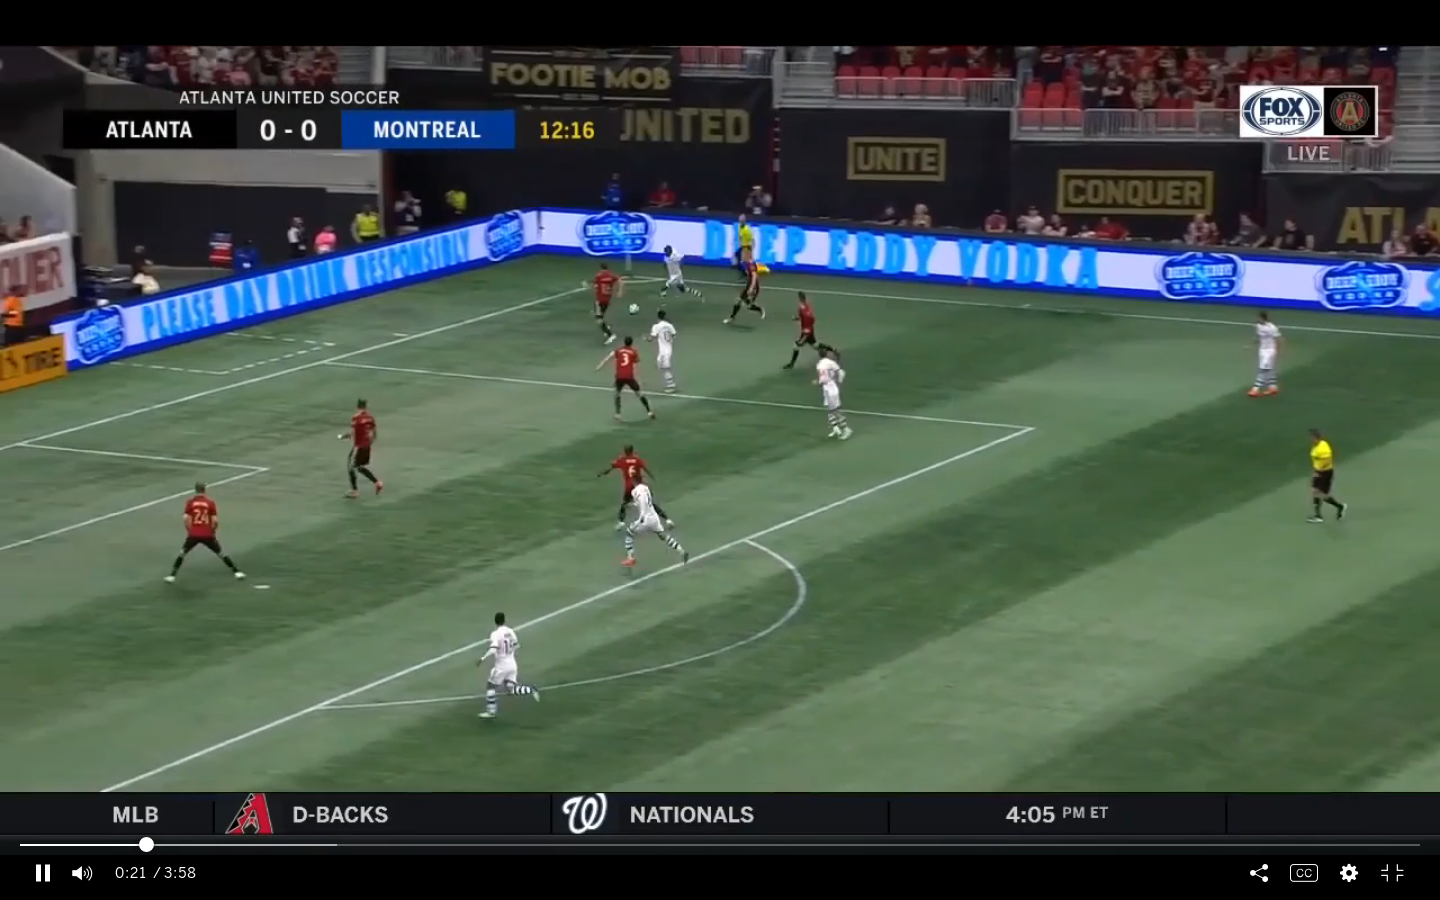referee: (1304, 426, 1347, 528), (736, 211, 768, 276)
soccer player: (165, 474, 248, 592), (475, 611, 542, 723), (595, 442, 673, 534), (625, 477, 687, 571), (333, 394, 385, 503), (601, 336, 653, 423), (816, 346, 856, 445), (788, 292, 836, 371), (1245, 311, 1287, 400), (650, 245, 712, 300), (647, 309, 684, 399), (582, 263, 621, 337), (732, 252, 761, 323)
soccerball: (627, 300, 645, 317)
